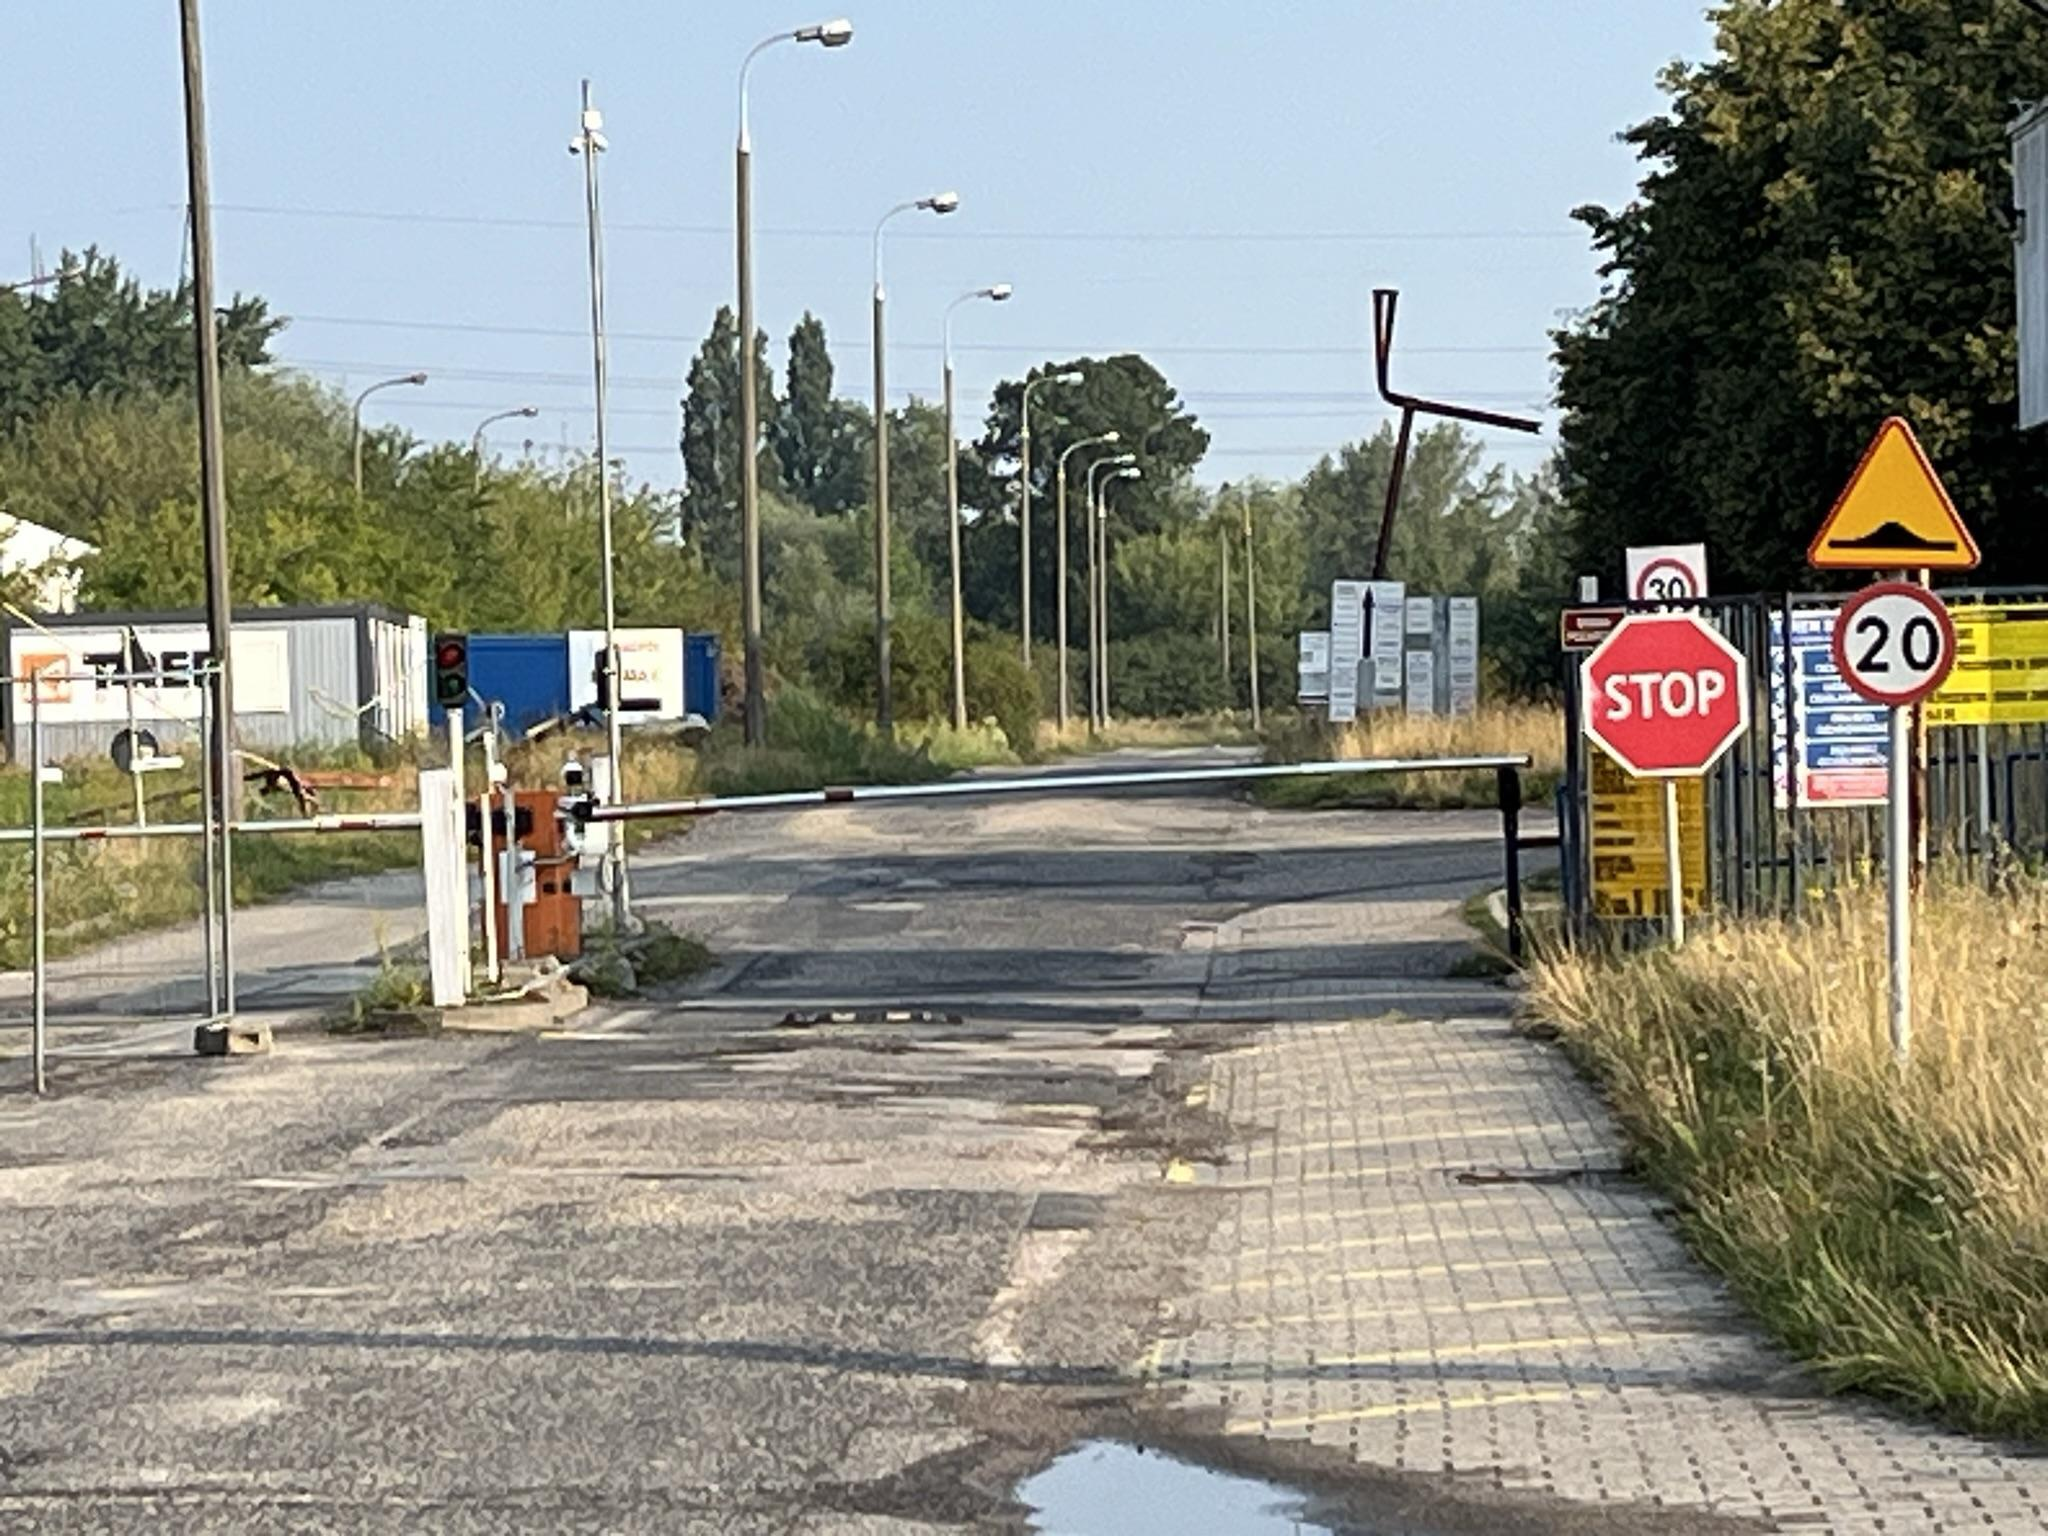prohibitory: (1579, 613, 1751, 778), (1830, 581, 1956, 705), (1637, 557, 1698, 600)
